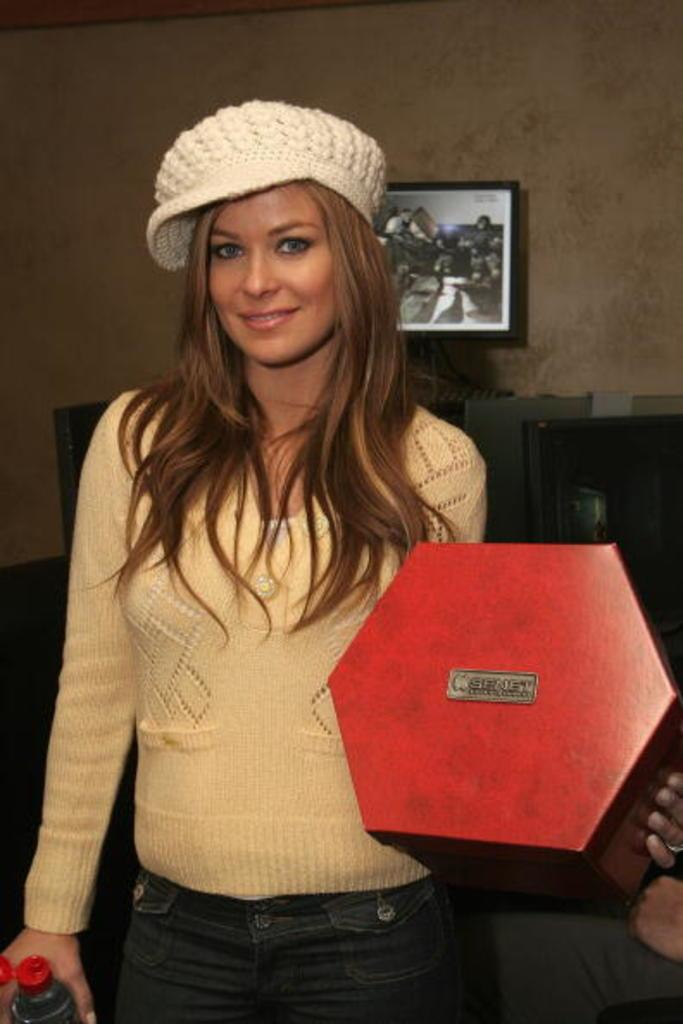Hat: (142, 96, 402, 260)
